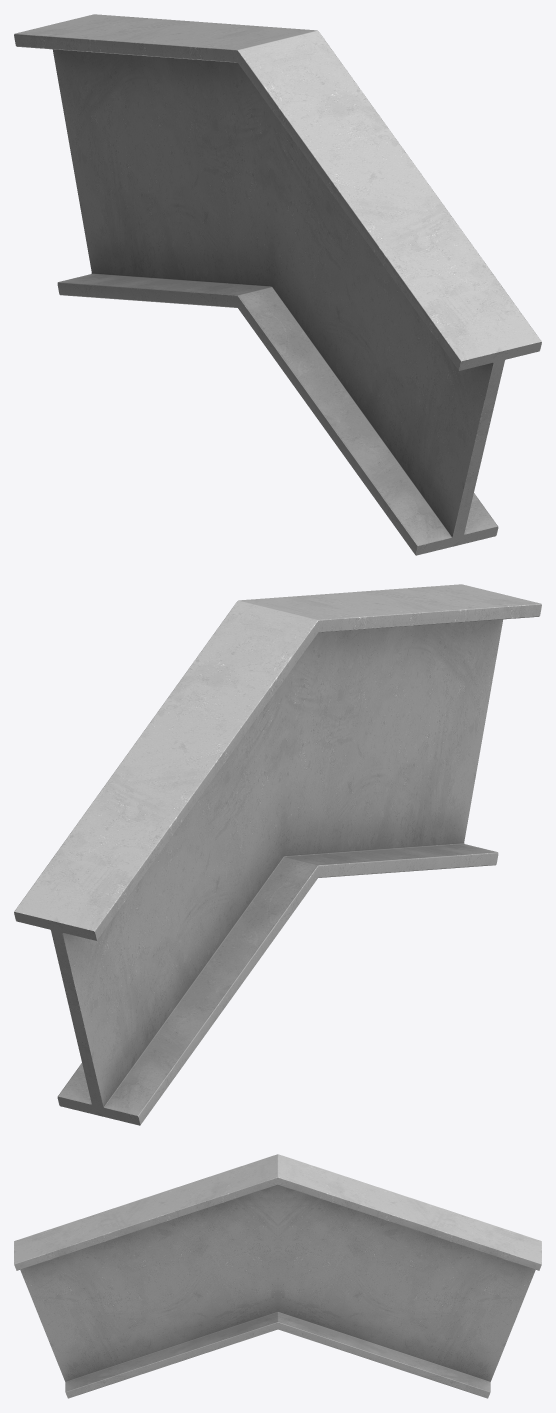
Rendered from StructuralBeam_Top.FBX.
3 views of the same model, one above another, from view 1: azimuth 30°, elevation 25°; view 2: azimuth 150°, elevation 25°; view 3: azimuth 270°, elevation 25° (orthographic). The views are drawn at different scales.
Parts seen in each view (by area): view 1: StructuralBeam_Top; view 2: StructuralBeam_Top; view 3: StructuralBeam_Top.
Part boxes in pixels (bbox=[...]): StructuralBeam_Top: bbox=[14, 14, 541, 555]; StructuralBeam_Top: bbox=[14, 584, 541, 1125]; StructuralBeam_Top: bbox=[14, 1154, 541, 1398].
Bounding box in the file's own units: 35 × 155 × 334.
